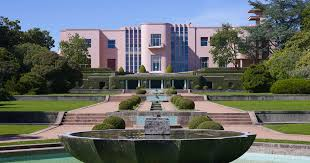serralves: (60, 6, 279, 73)
